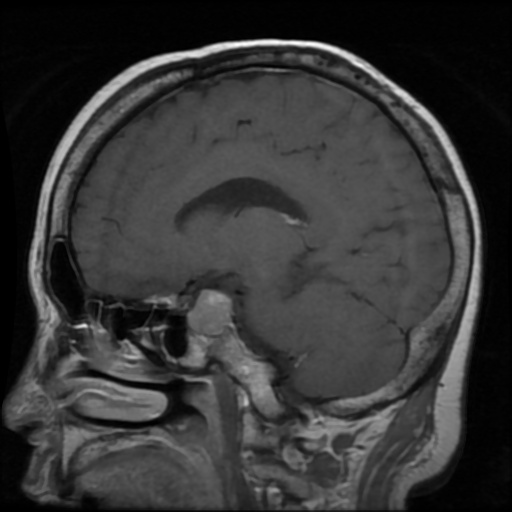pituitary: (188, 290, 229, 333)
